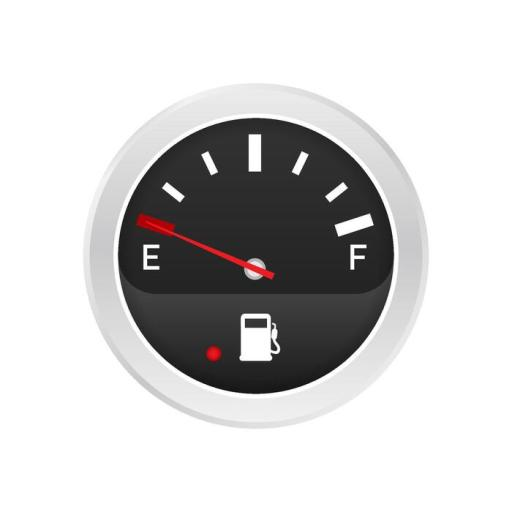empty: (140, 240, 160, 273)
fuel_icon: (233, 310, 276, 362)
full: (347, 244, 368, 272)
guage_area: (105, 117, 393, 384)
needle_center: (242, 255, 276, 286)
needle_tip: (138, 215, 188, 238)
